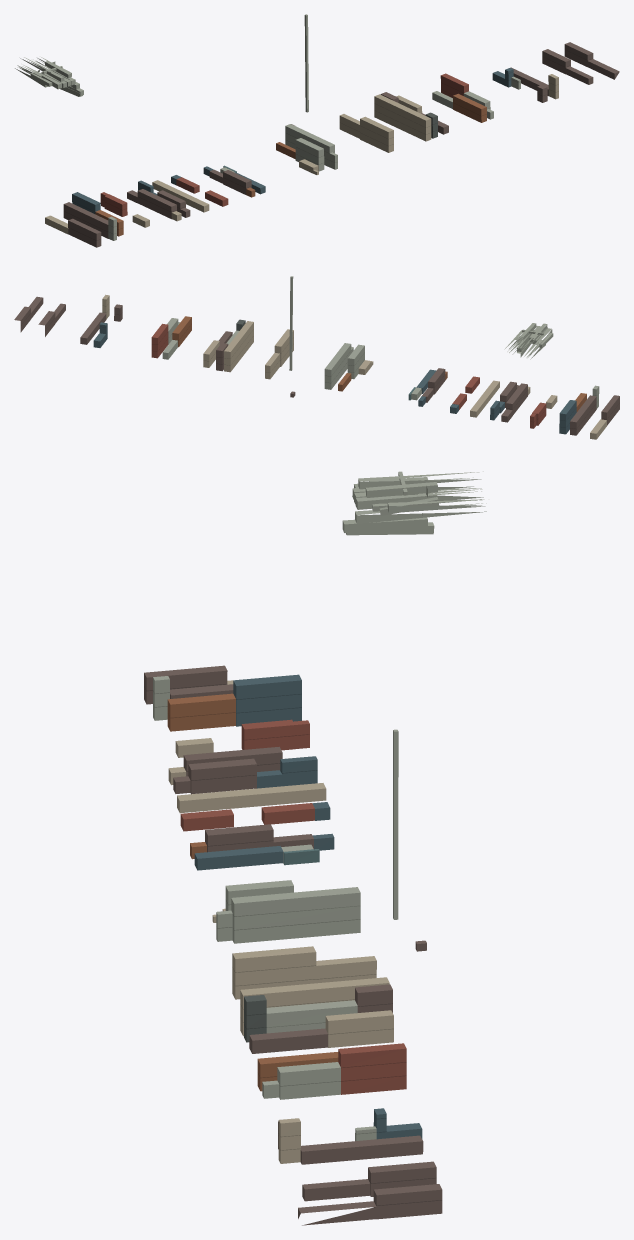
The model's file is terminal-28---124_-19.glb.
3 views of the same model, one above another, from view 1: azimuth 30°, elevation 25°; view 2: azimuth 150°, elevation 25°; view 3: azimuth 270°, elevation 25° (orthographic). The views are drawn at different scales.
Parts seen in each view (by area): view 1: measured-industrial; view 2: measured-industrial; view 3: measured-industrial.
Part boxes in pixels (x1,y1,x2,y2): measured-industrial: [15, 14, 619, 247]; measured-industrial: [14, 276, 619, 439]; measured-industrial: [144, 471, 486, 1225].
Size of the model in its own units: 249 by 51.65 by 66.99.
